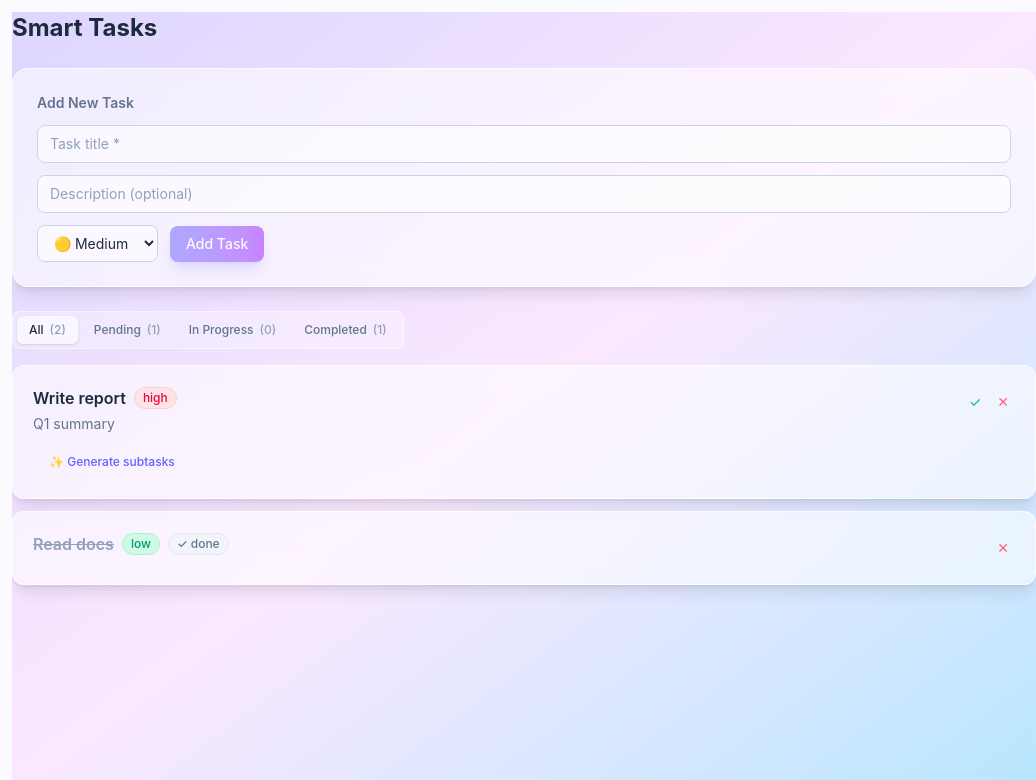
Scenario: Tasks page — task actions › removes the task from the list after deletion
The image size is (1036, 780).
Check: the heading "Write report" is shown, box [33,386,126,410]
Click the button titled "Delete" in the row of "high".
click(1003, 402)  # box [991,386,1015,418]
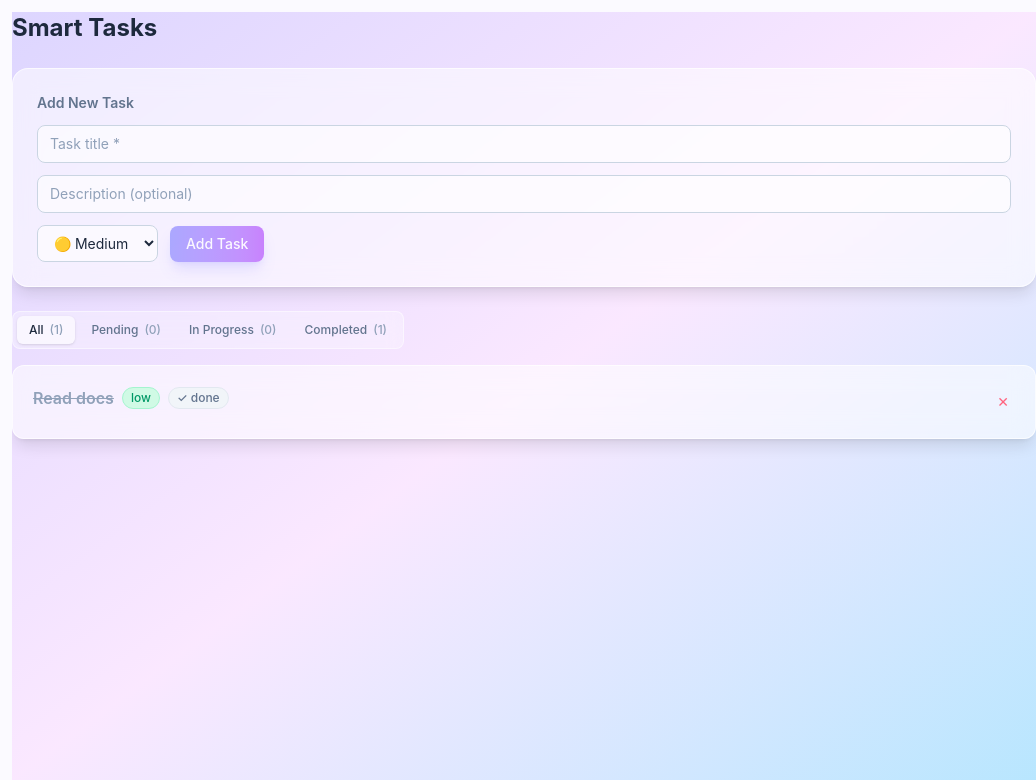
Check: the heading "Write report" is gone
